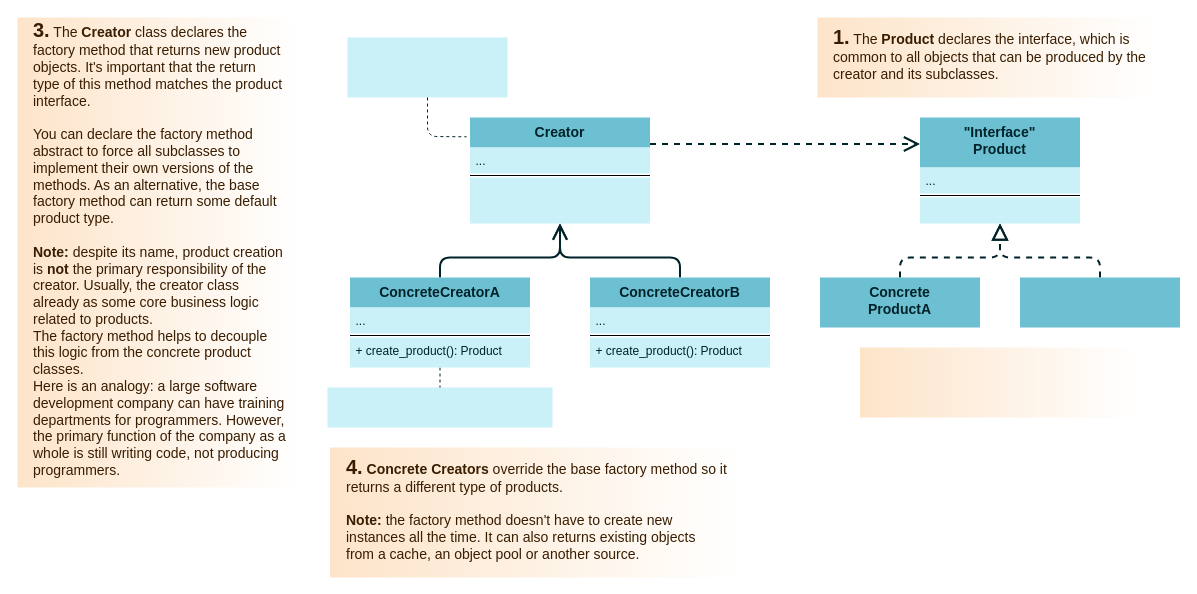
Some shapes in this 1197 by 594 pixel diagram are drawn without their labels. Here are the shapes that lost their labels. From the top down, the centre of each, then its label:
At (427,67): "p = create_product() p.do_stuff()".
At (560,200): "+ some_operation() + create_product(): Product".
At (1000,210): "+ do_stuff()".
At (1100,306): "Concrete ProductB".
At (1000,382): "2. Concrete products are different implementations of the product interface.".
At (439,407): "return new ConcreteProductA()".
